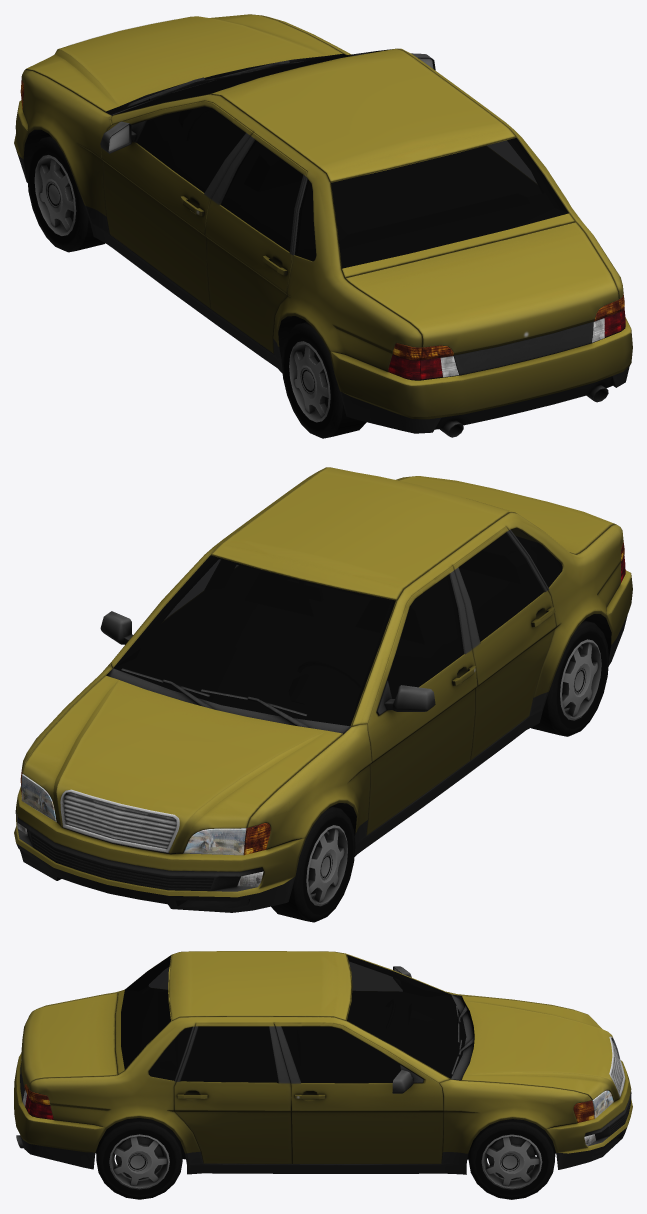
File: sedan.glb
The picture shows the model from 3 angles, top to bottom: view 1: azimuth 30°, elevation 25°; view 2: azimuth 150°, elevation 25°; view 3: azimuth 270°, elevation 25°; orthographic projection. The views are drawn at different scales.
Parts seen in each view (by area): view 1: body, wheel_rl, wheel_fl; view 2: body, wheel_fl, wheel_rl; view 3: body, wheel_rr, wheel_fr.
Part boxes in pixels (x1=…): body: x1=14, y1=14, x2=632, y2=437; wheel_rl: x1=281, y1=322, x2=366, y2=438; wheel_fl: x1=27, y1=136, x2=105, y2=252; body: x1=14, y1=467, x2=632, y2=912; wheel_fl: x1=271, y1=806, x2=355, y2=922; wheel_rl: x1=531, y1=620, x2=608, y2=736; body: x1=14, y1=951, x2=632, y2=1174; wheel_rr: x1=96, y1=1118, x2=182, y2=1199; wheel_fr: x1=468, y1=1119, x2=555, y2=1199.
Size of the model in its own units: 2.18 by 1.51 by 4.91.
Materials: 4 (3 with a texture image).
